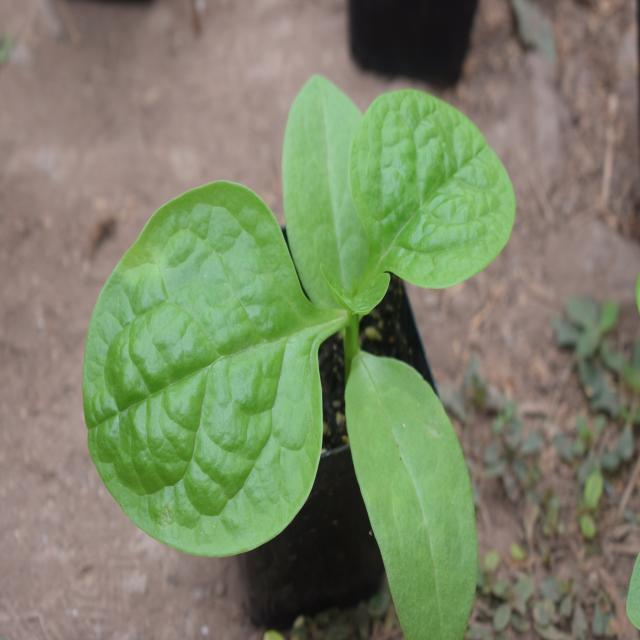Ceylon spinach: (89, 86, 498, 604)
